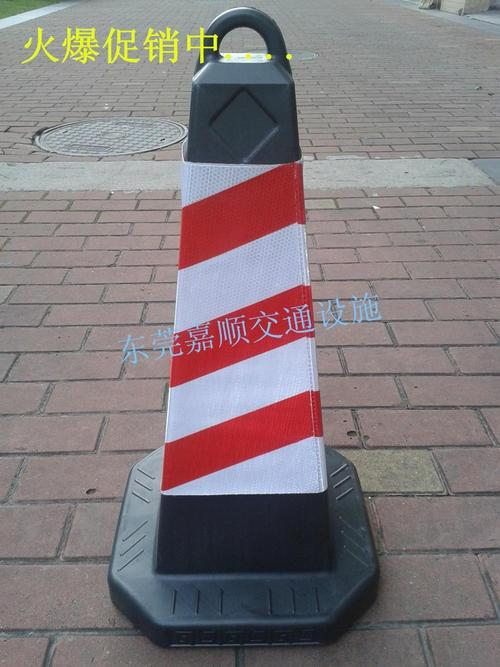cone_barrel: (114, 12, 377, 629)
